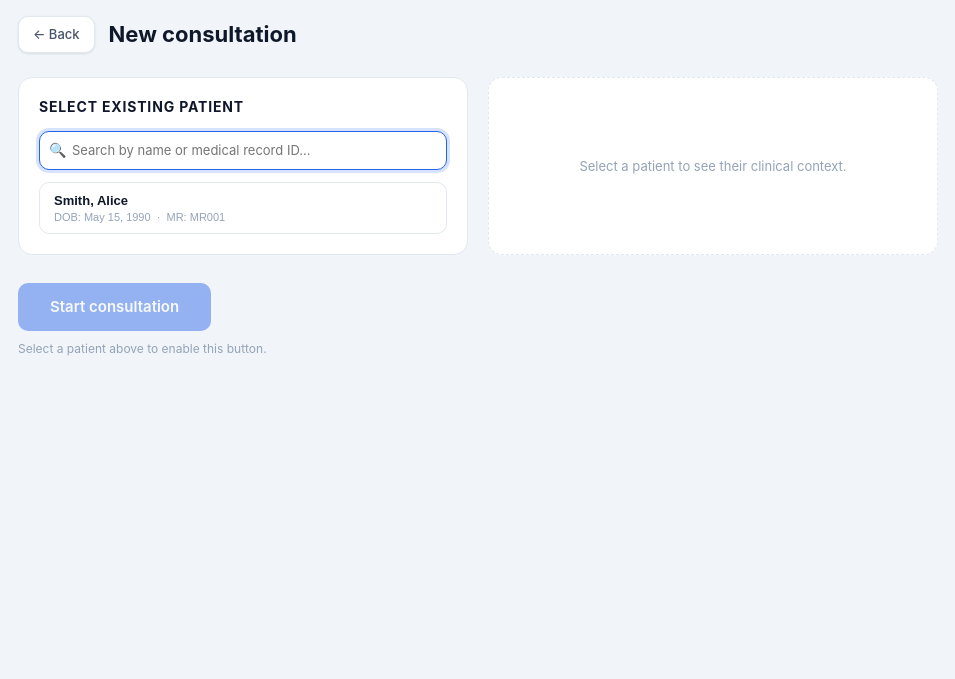
Scenario: 4. "Start consultation" requires consent checkbox › 4b. unchecking the checkbox disables the button again
Click the text "Smith, Alice" at x=91, y=201, box [54,193,128,208]
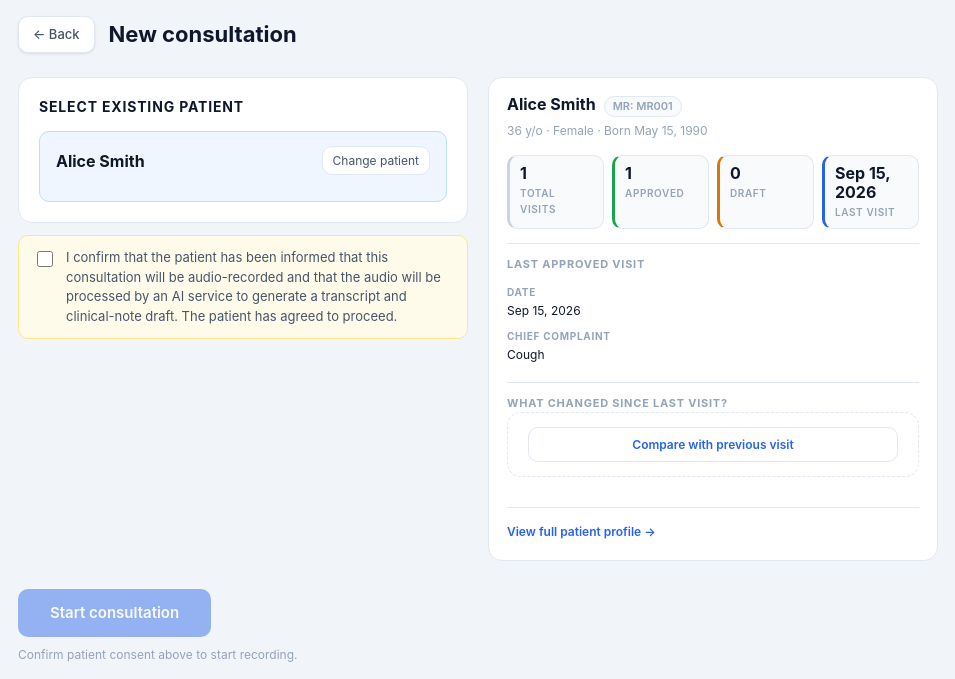
Result: the heading "Alice Smith" below "Select existing patient" is shown at [56,151,145,171]
Click the checkbox named "I confirm the patient has consented to recording and AI proc" at x=45, y=260, box [37,252,53,268]
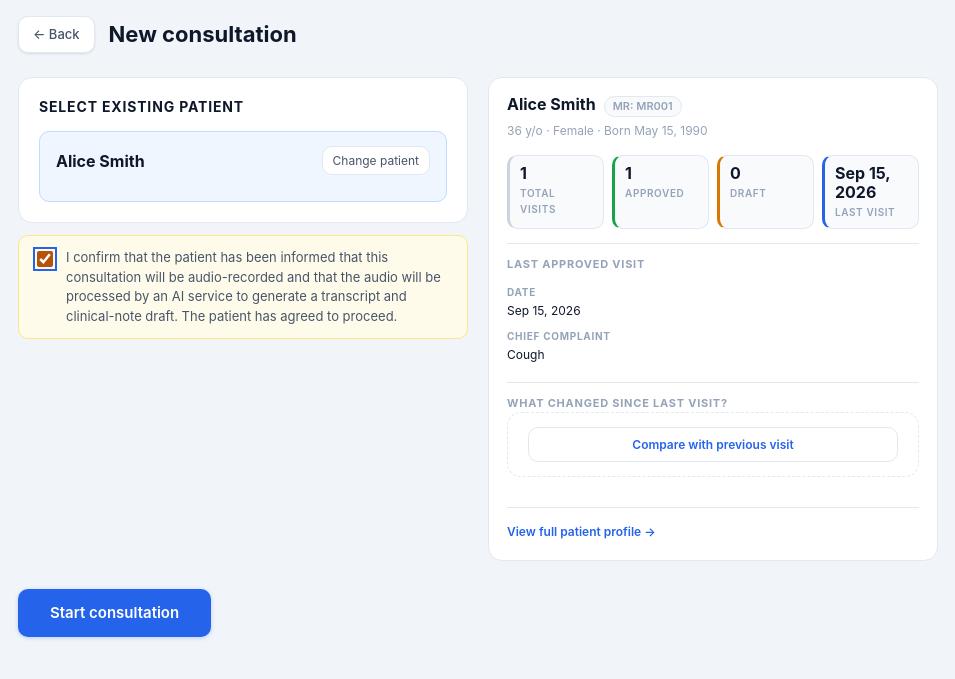
Click the checkbox named "I confirm the patient has consented to recording and AI proc" at x=45, y=260, box [37,252,53,268]
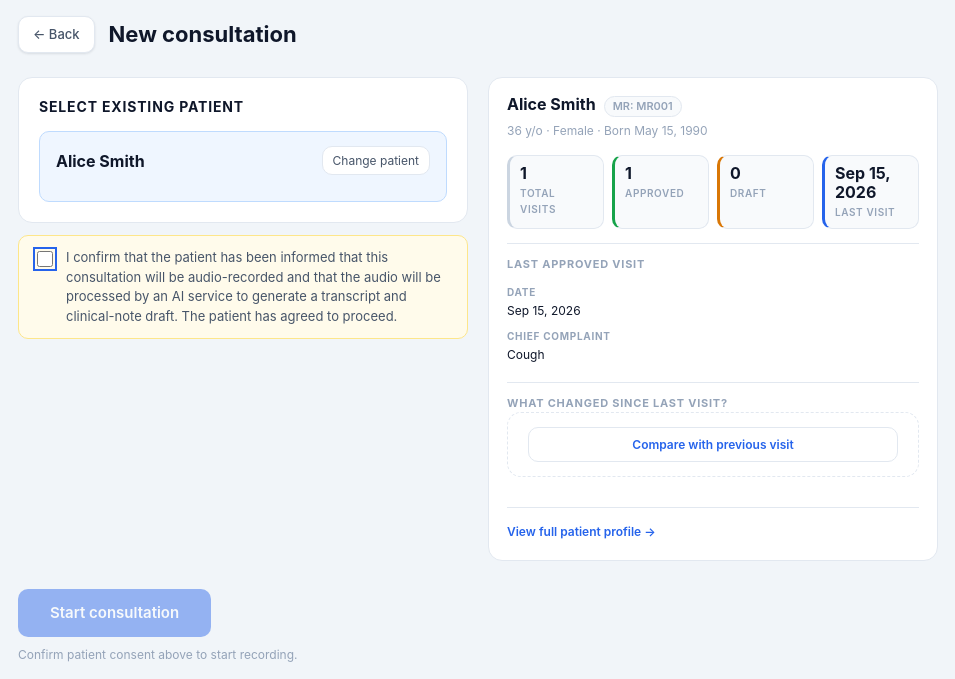
Result: the button "Start consultation" is disabled at [18,589,211,637]
